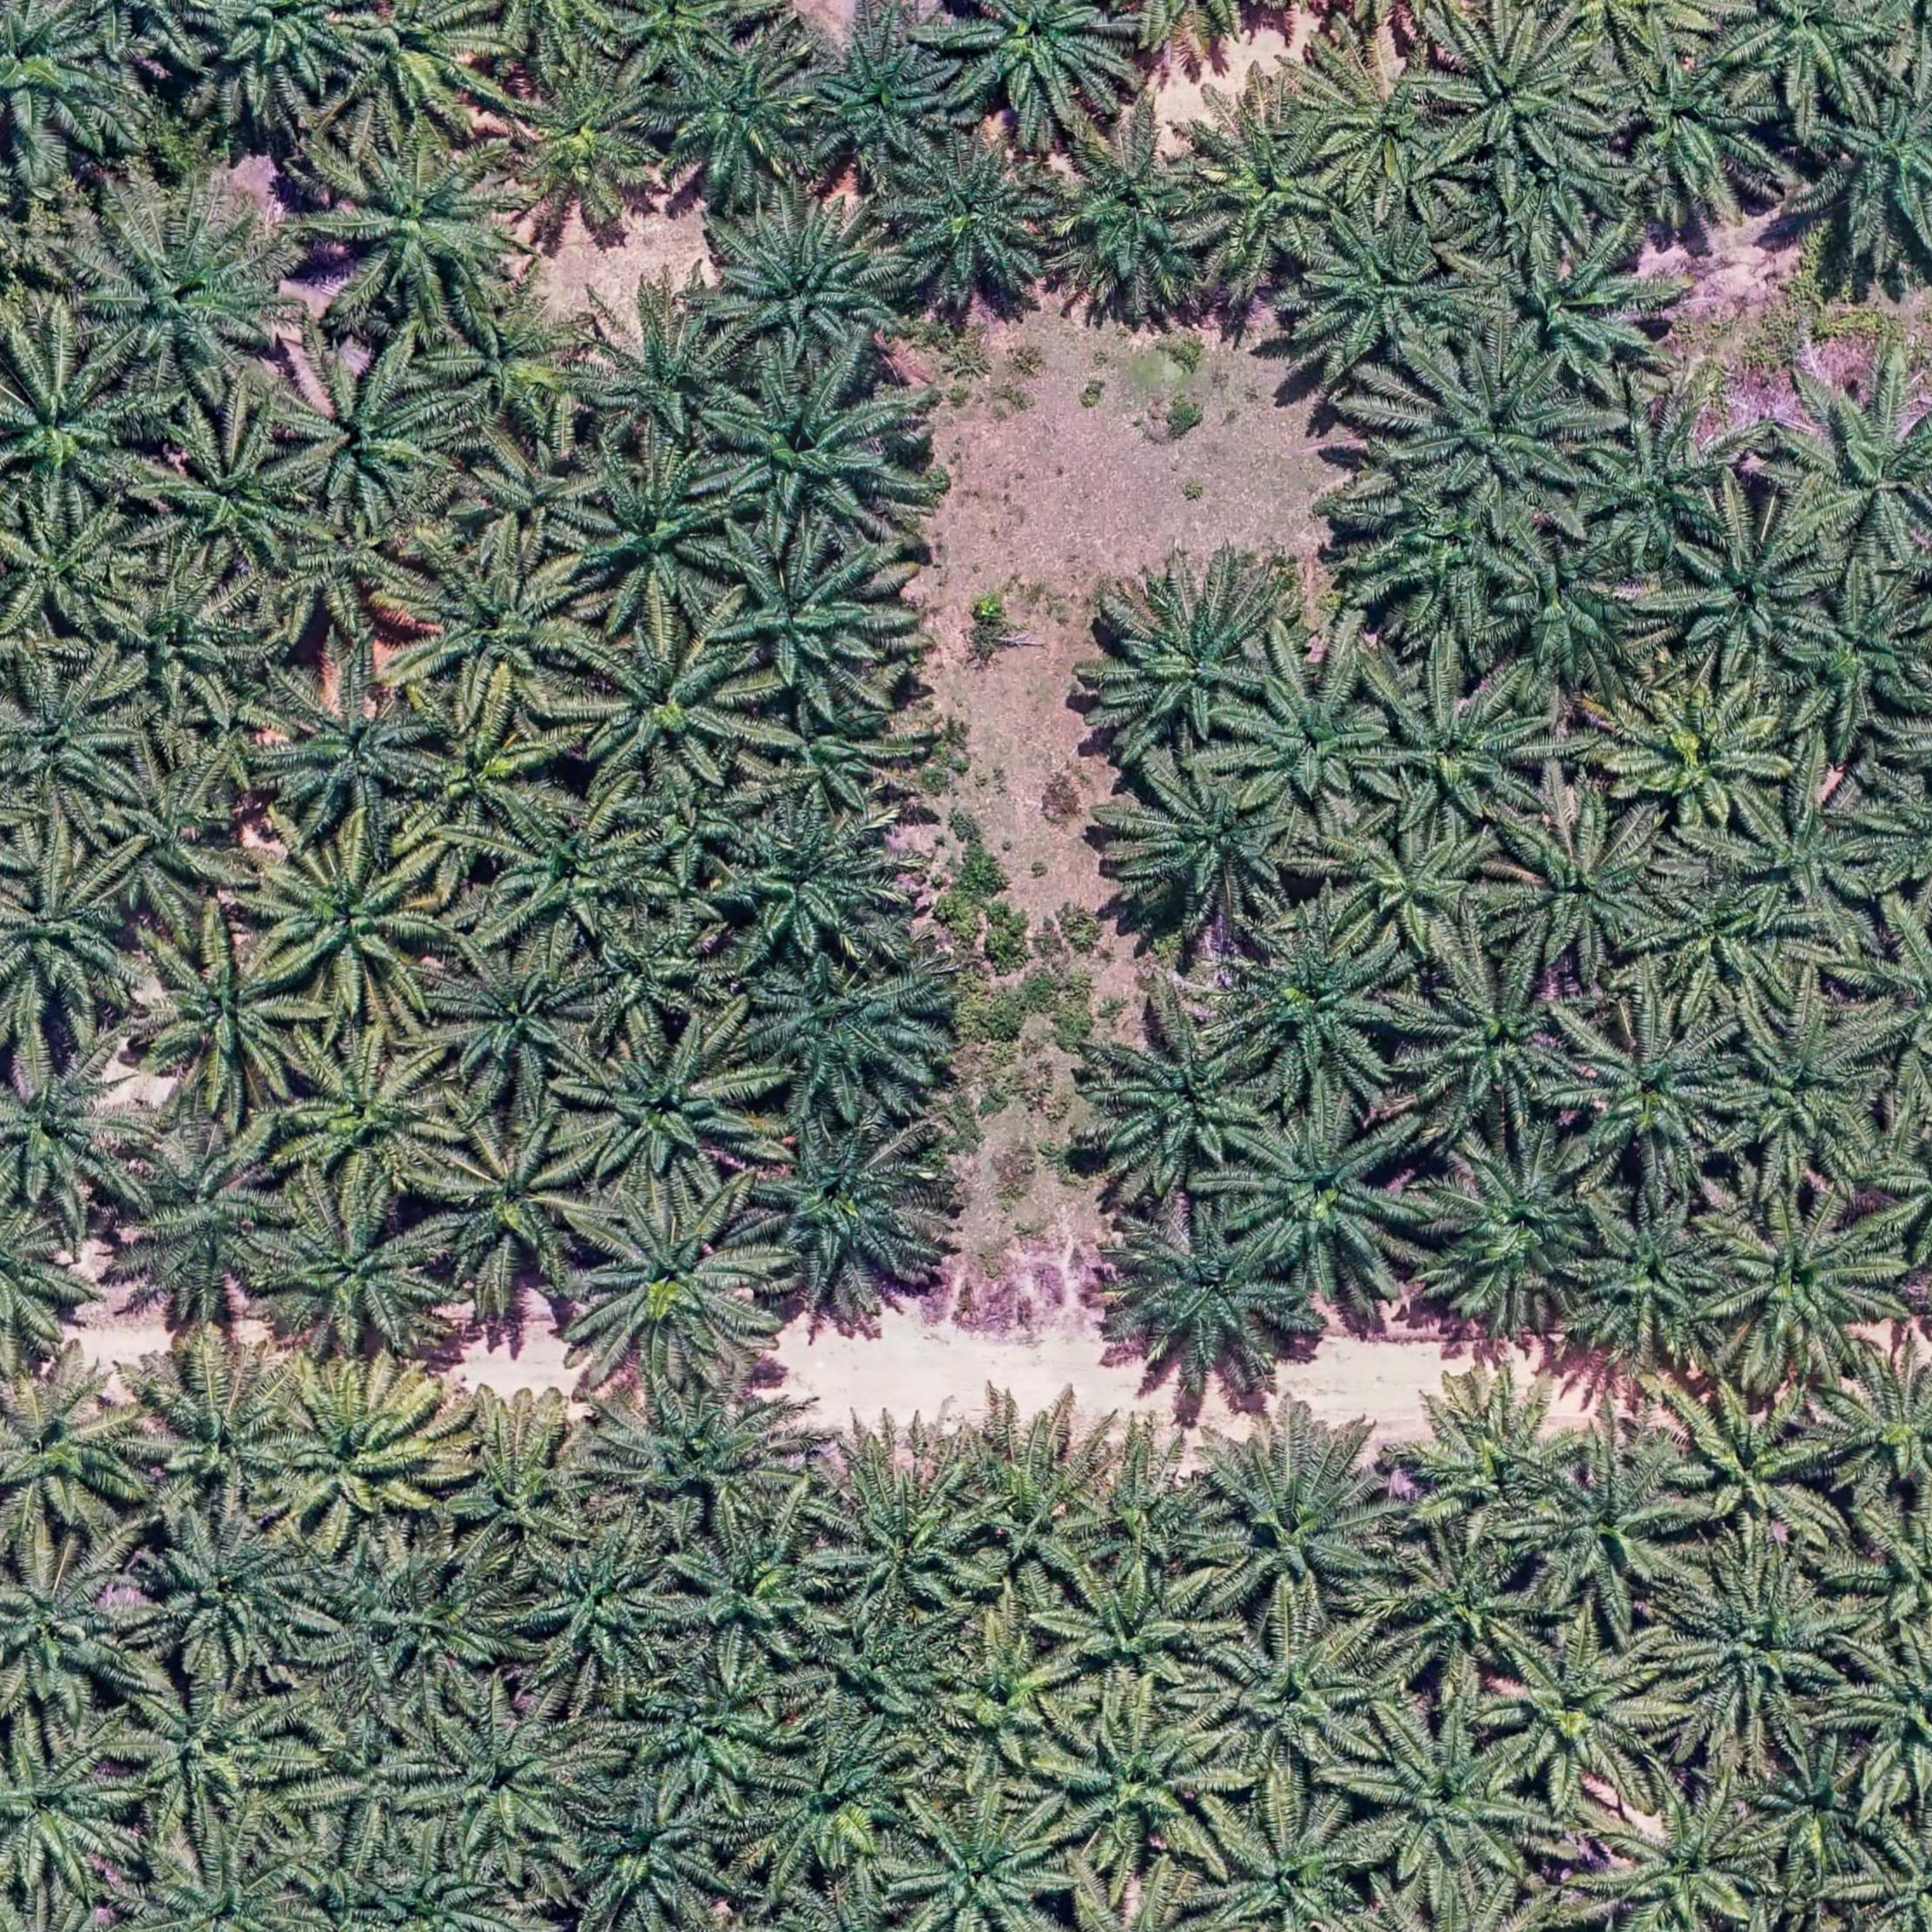palmtree: (87, 200, 304, 402), (1198, 1419, 1407, 1622), (805, 1414, 994, 1631), (1661, 1552, 1870, 1746), (317, 136, 525, 326), (571, 1192, 775, 1385), (1346, 1706, 1546, 1900), (1706, 1191, 1905, 1384), (253, 832, 451, 1023), (715, 361, 916, 545), (1228, 1106, 1428, 1290), (115, 1115, 299, 1311), (402, 540, 600, 722), (1421, 1132, 1608, 1323), (262, 1366, 455, 1552), (1042, 124, 1228, 315), (134, 927, 322, 1115), (1654, 1378, 1845, 1562), (566, 625, 763, 803), (1394, 343, 1598, 513), (1403, 954, 1592, 1136), (1559, 998, 1744, 1182), (1095, 575, 1284, 755), (718, 200, 913, 375), (423, 1111, 609, 1293), (745, 957, 948, 1123), (718, 534, 908, 713), (1198, 1615, 1391, 1790), (1113, 1207, 1302, 1384), (1490, 1624, 1679, 1801), (1599, 37, 1789, 214), (257, 1191, 449, 1364), (598, 1382, 800, 1546), (570, 1019, 761, 1192), (748, 1120, 939, 1293), (119, 1660, 310, 1833), (1046, 1704, 1238, 1875), (934, 1407, 1118, 1583), (1224, 922, 1410, 1097), (278, 347, 464, 522), (138, 1509, 326, 1683), (412, 1700, 603, 1870), (134, 1339, 310, 1523), (720, 805, 913, 970), (1560, 1196, 1741, 1371), (492, 53, 674, 226), (1297, 212, 1484, 380), (1116, 766, 1307, 931), (274, 1030, 458, 1200), (1369, 669, 1555, 837), (83, 750, 255, 931), (96, 566, 278, 734), (1477, 235, 1663, 400), (1716, 1005, 1890, 1180), (260, 665, 441, 833), (1520, 1449, 1704, 1614), (1587, 1778, 1783, 1932), (570, 453, 741, 628), (1571, 403, 1748, 573), (1095, 1014, 1274, 1182), (1778, 370, 1932, 564), (1495, 805, 1679, 968), (1610, 678, 1794, 840), (145, 416, 322, 582), (0, 1364, 154, 1555), (0, 1026, 150, 1221), (435, 941, 609, 1109), (1362, 483, 1545, 639), (1410, 1373, 1591, 1529), (885, 142, 1060, 301), (437, 1408, 612, 1568), (478, 793, 653, 952), (0, 1536, 149, 1723), (1433, 14, 1606, 173), (1325, 816, 1511, 964), (748, 1727, 922, 1884), (1663, 515, 1831, 676), (653, 41, 828, 195), (0, 1723, 145, 1909), (0, 343, 152, 520), (518, 1529, 688, 1686), (1640, 872, 1813, 1026), (665, 1522, 839, 1674), (260, 497, 433, 649), (1053, 1557, 1231, 1704), (0, 851, 147, 1030), (1302, 44, 1468, 202), (568, 1771, 736, 1927), (433, 281, 603, 435), (920, 1628, 1083, 1787), (1389, 1534, 1553, 1691), (1191, 111, 1346, 276), (349, 1553, 527, 1697), (0, 0, 142, 177), (632, 1660, 798, 1808), (1201, 1798, 1384, 1932), (1233, 667, 1396, 817), (1495, 541, 1660, 690), (943, 0, 1138, 126), (801, 28, 966, 173), (609, 740, 764, 892), (586, 303, 748, 448), (1730, 782, 1888, 931), (407, 697, 570, 840), (754, 688, 920, 826), (1744, 1737, 1897, 1888), (897, 1801, 1070, 1932), (303, 1698, 451, 1851), (336, 0, 504, 133), (0, 497, 149, 642), (1789, 582, 1932, 732), (1076, 1449, 1230, 1587), (577, 906, 731, 1044), (0, 667, 142, 816), (191, 0, 380, 110), (1821, 73, 1932, 253), (800, 1606, 959, 1730), (462, 437, 605, 564), (1732, 0, 1897, 108), (0, 1192, 97, 1373), (1824, 1348, 1932, 1502), (1836, 1635, 1932, 1808), (350, 1836, 518, 1932), (129, 1838, 292, 1932), (1518, 133, 1631, 246)
